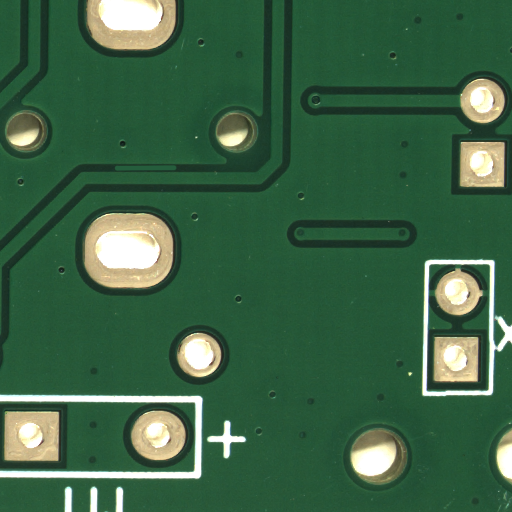Spurious_copper: (146, 168, 211, 175)
